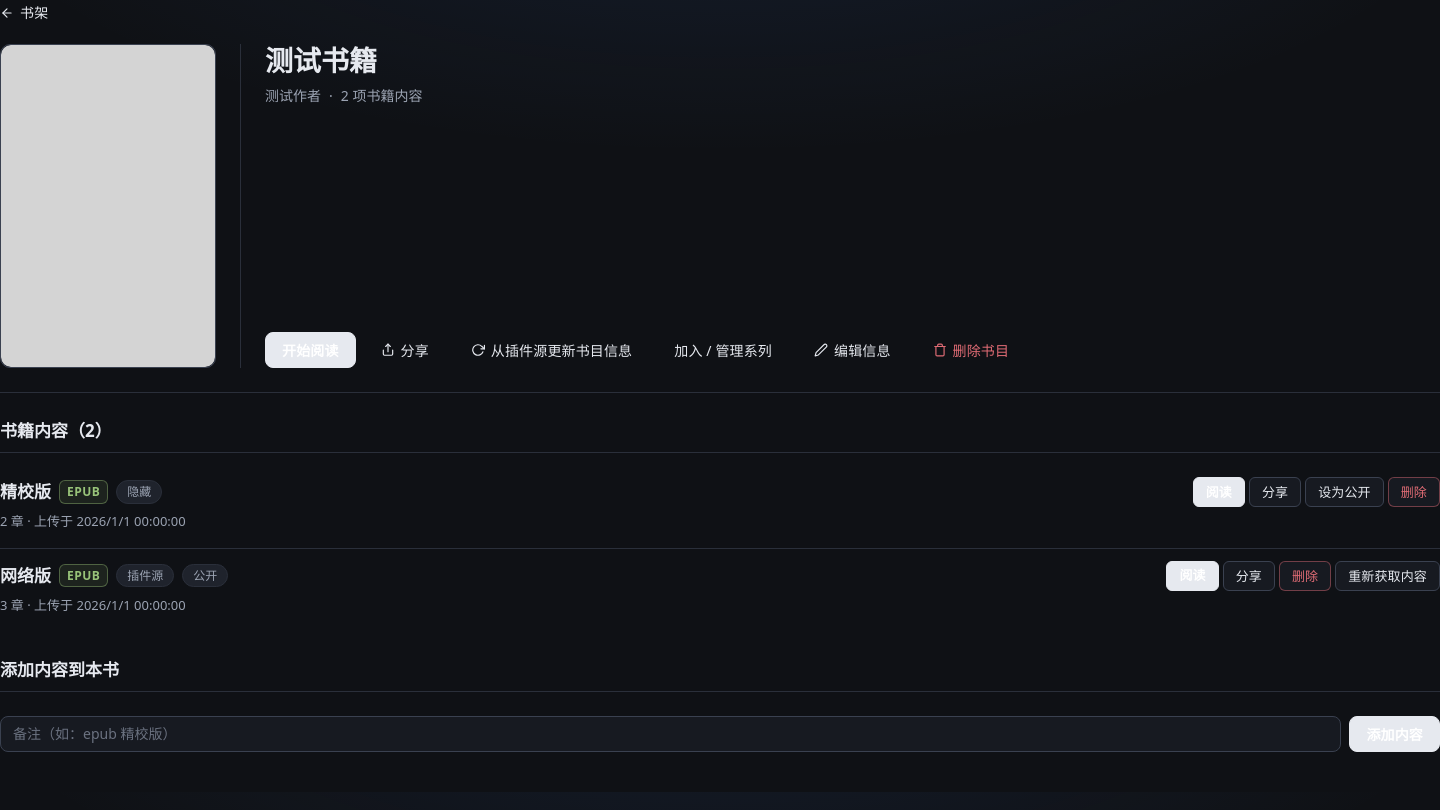
Scenario: only offers visibility editing for uploads, including when a plugin provides an EPUB
This screenshot has width=1440, height=810.
Check: the button "设为公开" is shown, box [1305,477,1384,507]
Click the button "添加内容" at (1395, 734), box [1349,716,1439,752]
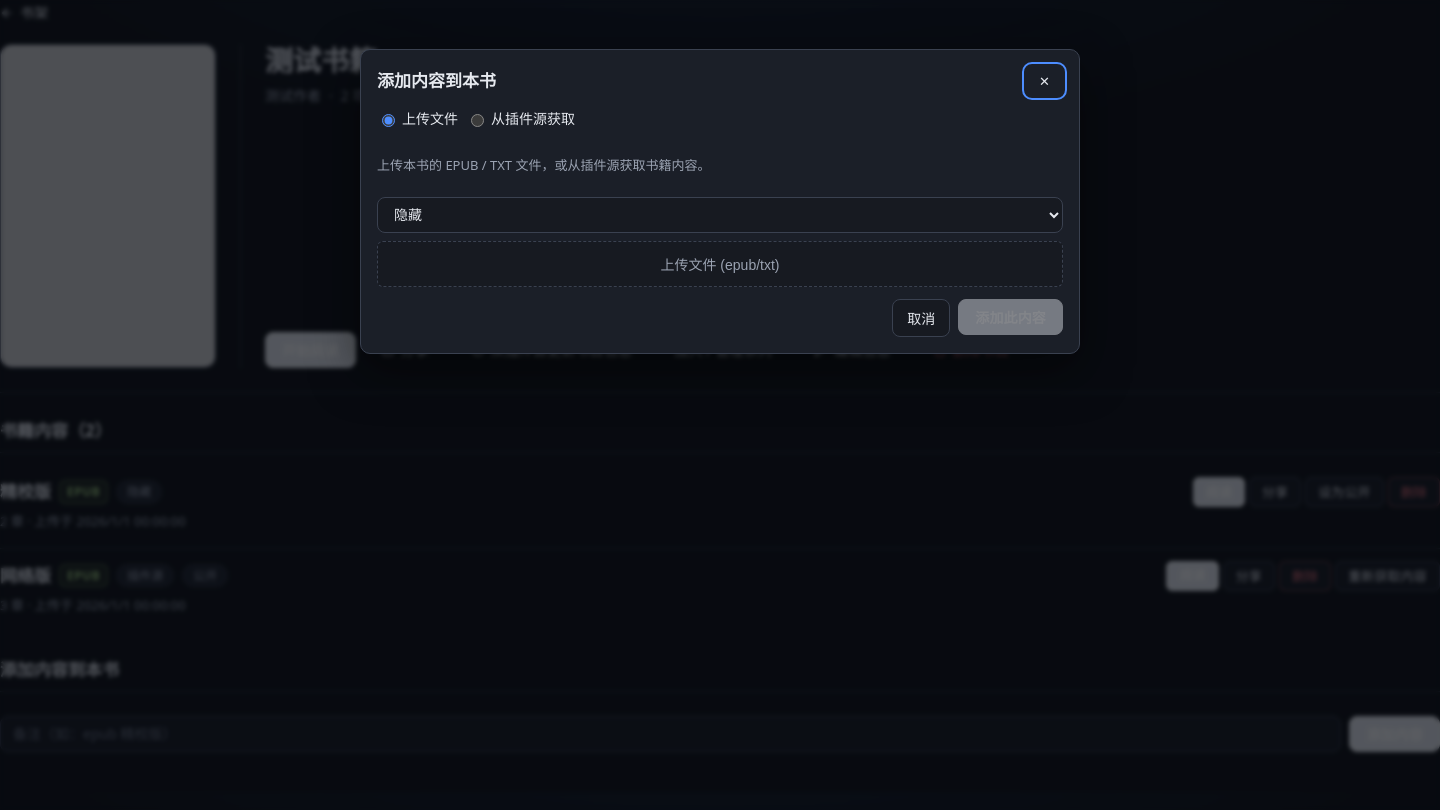
Check: the dropdown named "可见性" shows "隐藏", box [377,197,1063,233]
Click the radio button labelled "从插件源获取" at (478, 120), box [471,114,484,127]
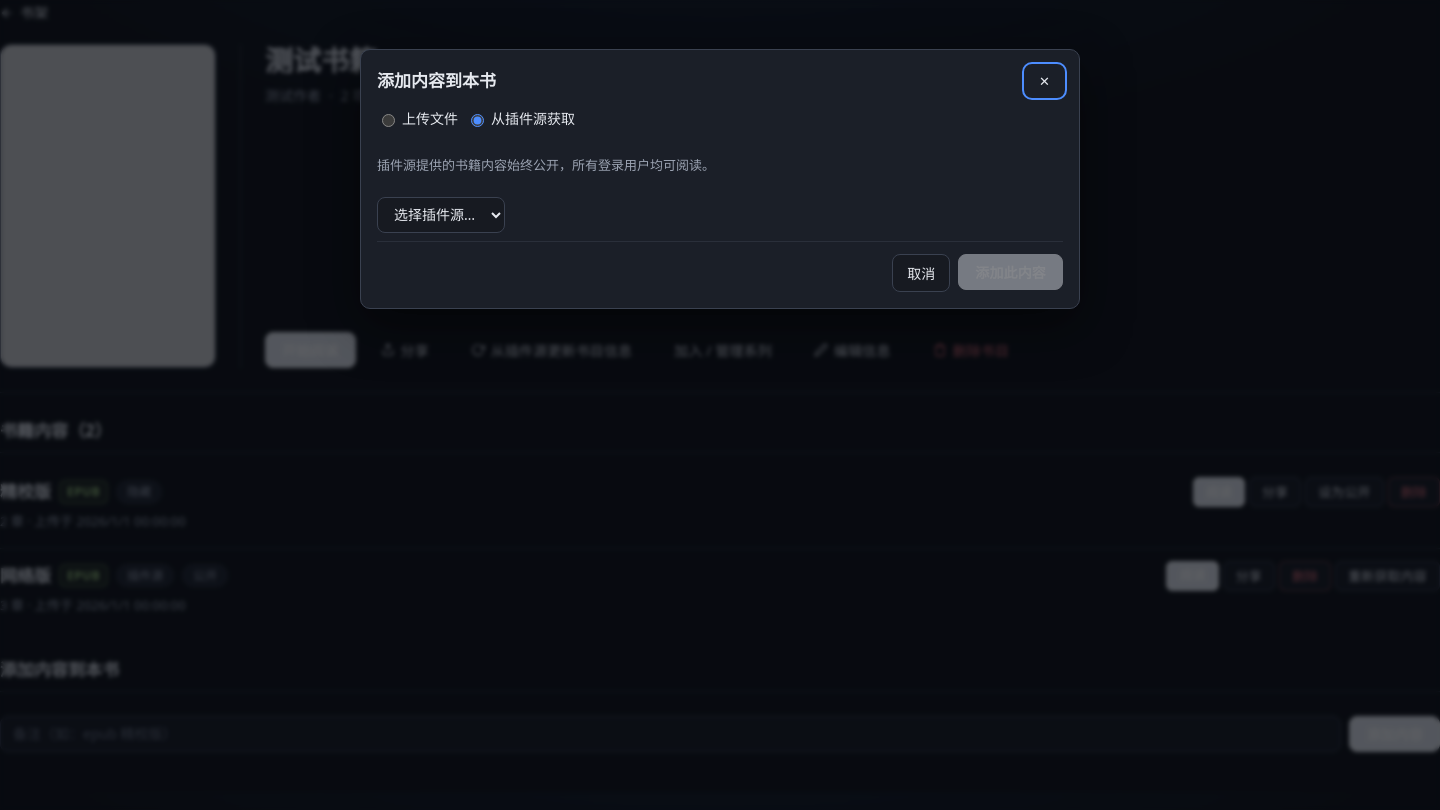
Check: the dropdown labelled "可见性" is gone
Check: the text "插件源提供的书籍内容始终公开，所有登录用户均可阅读。" is shown, box [377,156,715,174]
